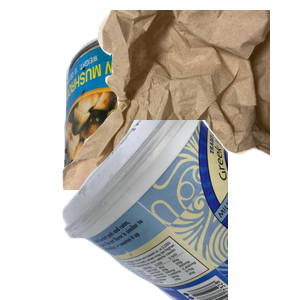glass: (29, 120, 242, 300)
metal: (60, 28, 300, 208)
plastic: (60, 120, 300, 300)
trash: (60, 10, 300, 190)
